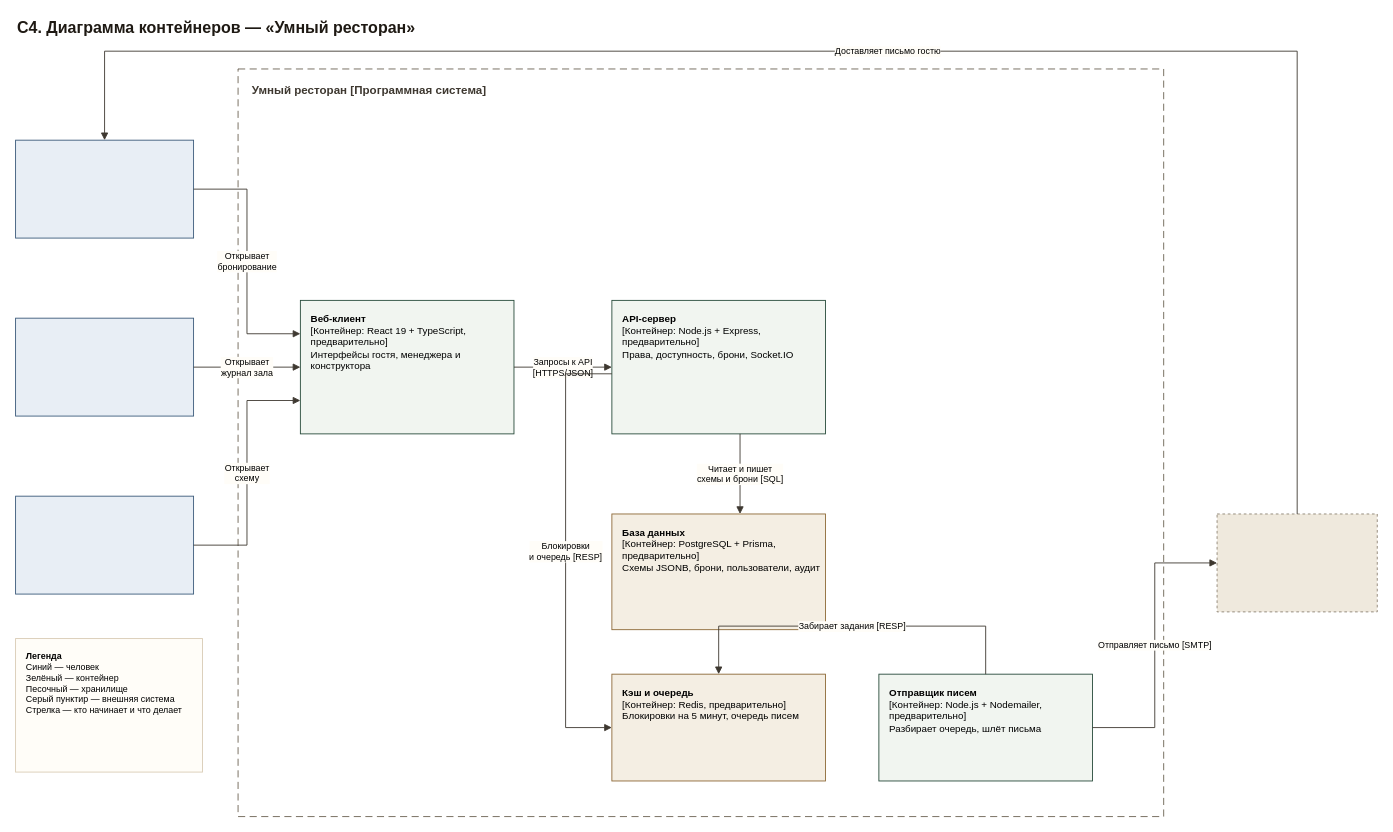
This 1393x832 diagram has some shape labels left out. Each missing label, with the centre of its shape:
Gmail [Внешняя система] Доставляет письма гостю: (x=1296, y=562)
Гость [Человек] Бронирует стол, управляет бронями: (x=104, y=188)
Конструктор схем [Человек] Планировка зала и ревизии: (x=104, y=544)
Менеджер [Человек] Журнал зала, перенос и no-show: (x=104, y=366)
